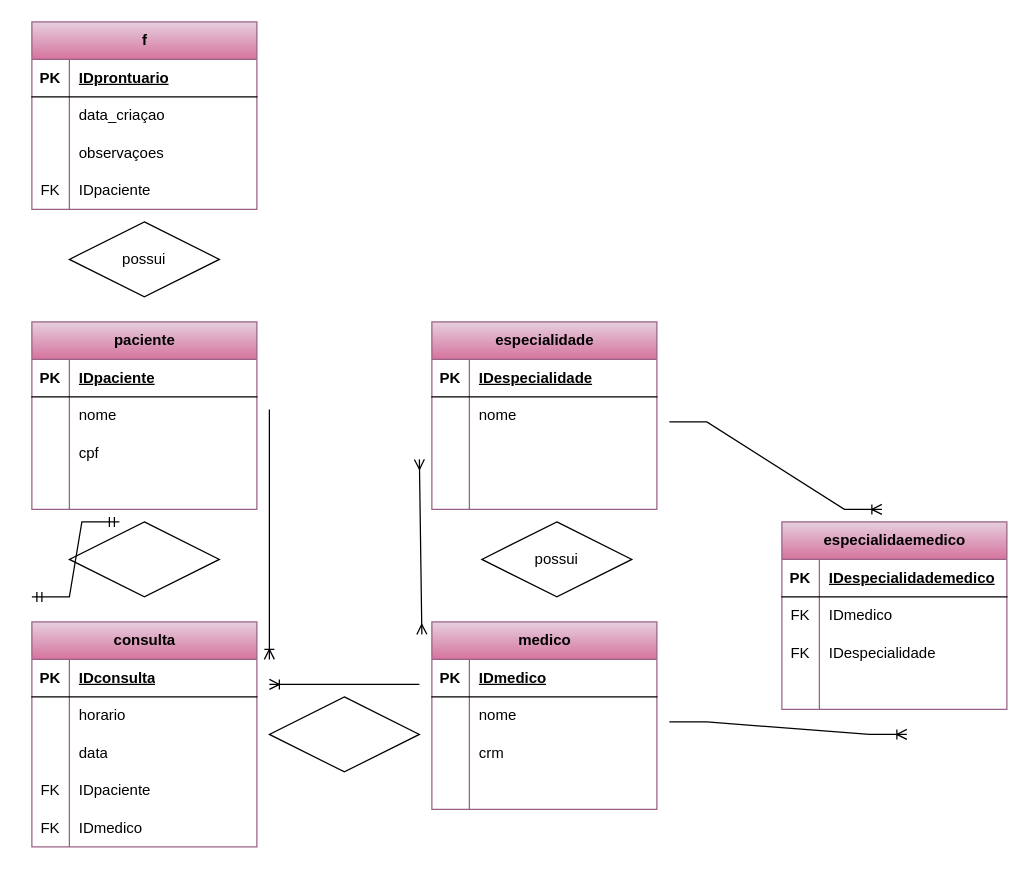
Some shapes in this 1029 by 869 pixel diagram are drawn without their labels. The shapes that lost their labels are listed below. From the top down, each one's centre as x and y in pixels, then its label:
the point at 143,559: agenda
the point at 343,734: realiza
